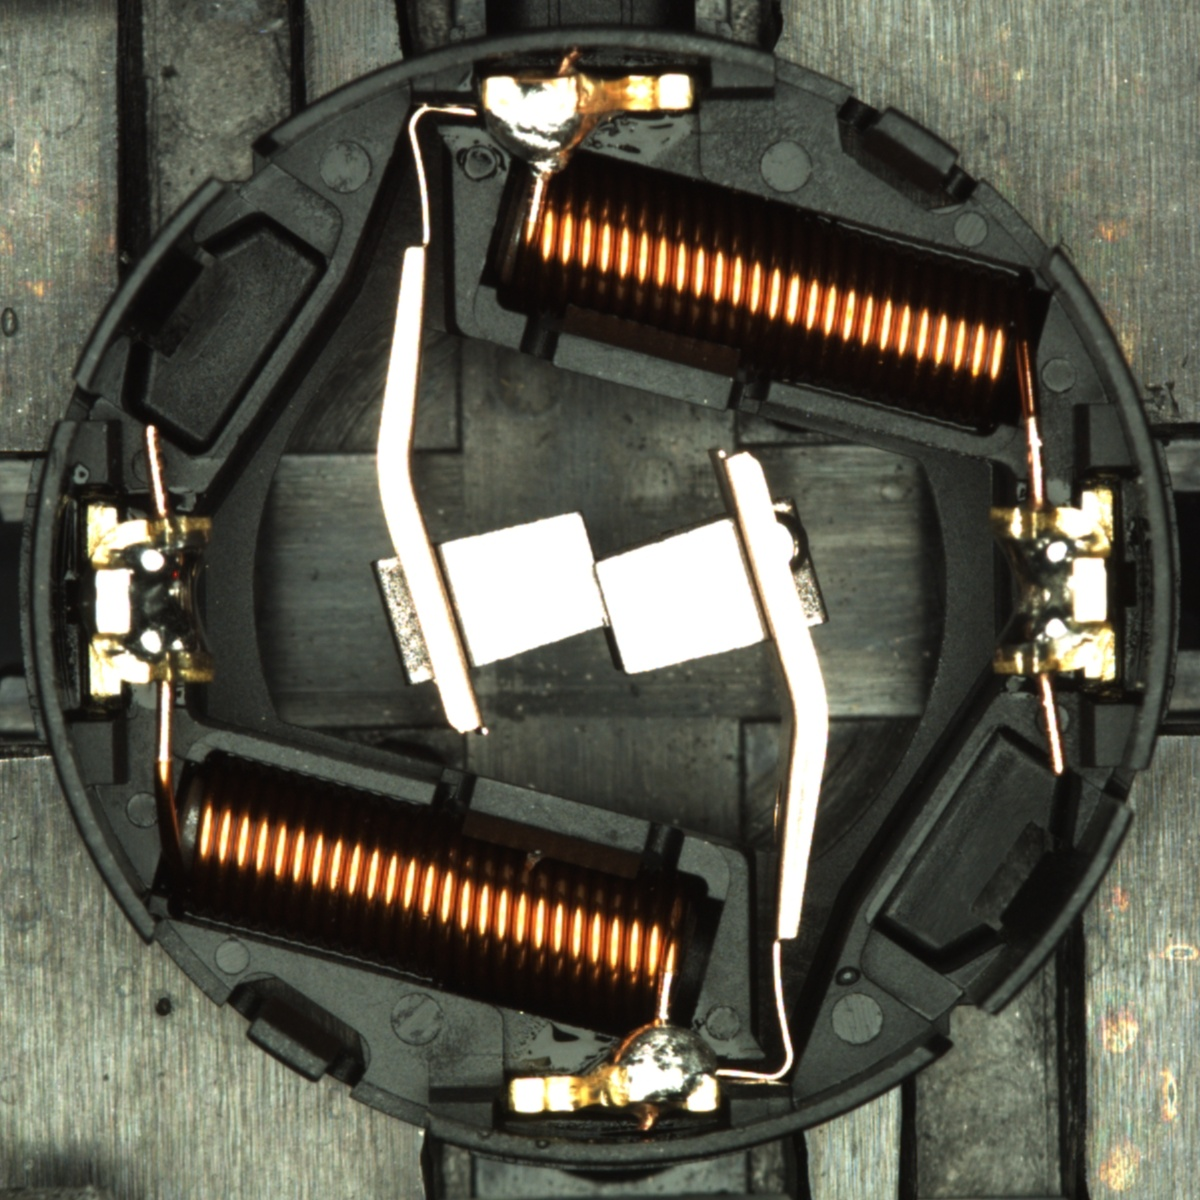1: (258, 55, 487, 279), (716, 953, 945, 1177)
2: (716, 55, 945, 279), (258, 953, 487, 1177)
3: (29, 279, 258, 503), (945, 729, 1175, 953)
4: (258, 279, 487, 503), (716, 729, 945, 953)
5: (487, 167, 716, 391), (487, 841, 716, 1065)
6: (716, 279, 945, 503), (258, 729, 487, 953)
7: (945, 279, 1175, 503), (29, 729, 258, 953)
chau_dien: (79, 499, 218, 700), (984, 488, 1123, 687)
hat_chi: (773, 510, 810, 574)
tay_choi: (479, 71, 699, 176), (508, 1016, 721, 1116)
thanh_de: (953, 787, 1141, 1031), (59, 164, 245, 405)
